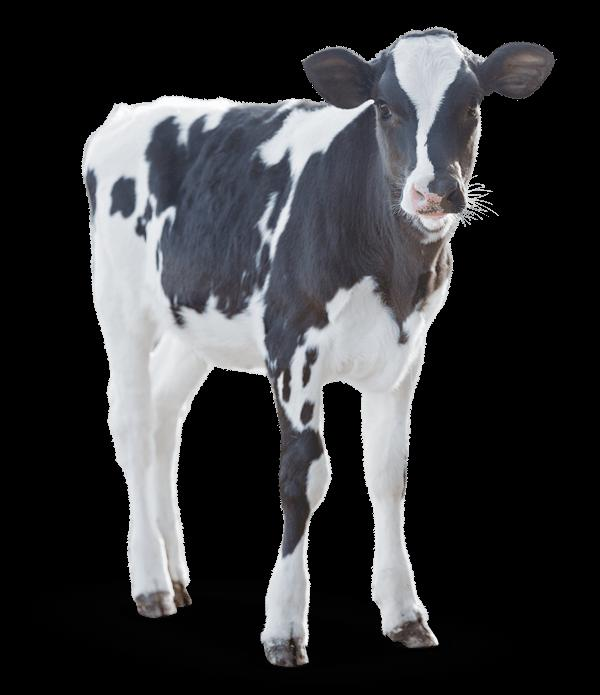muzzles: (396, 175, 470, 224)
